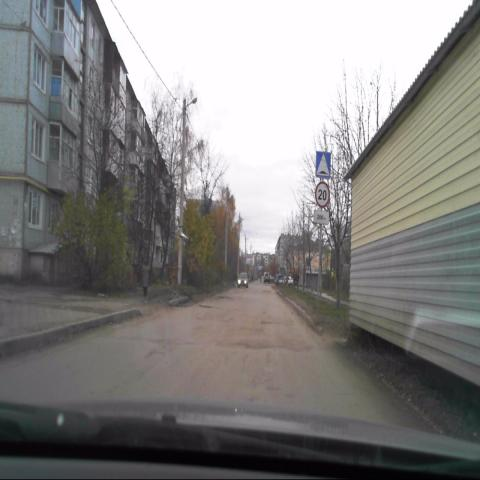8_1_1: (314, 209, 329, 225)
